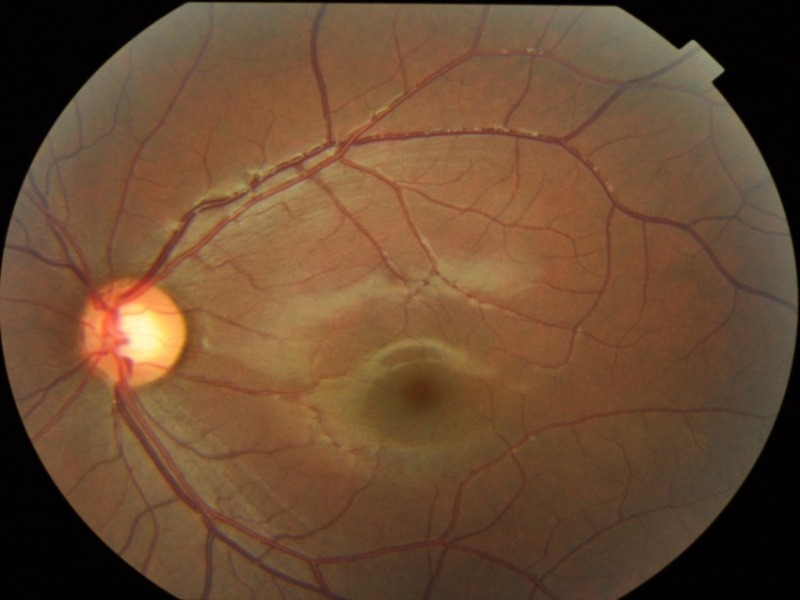Optic Cup: (118, 308, 164, 357)
Optic Disc: (80, 278, 188, 388)
